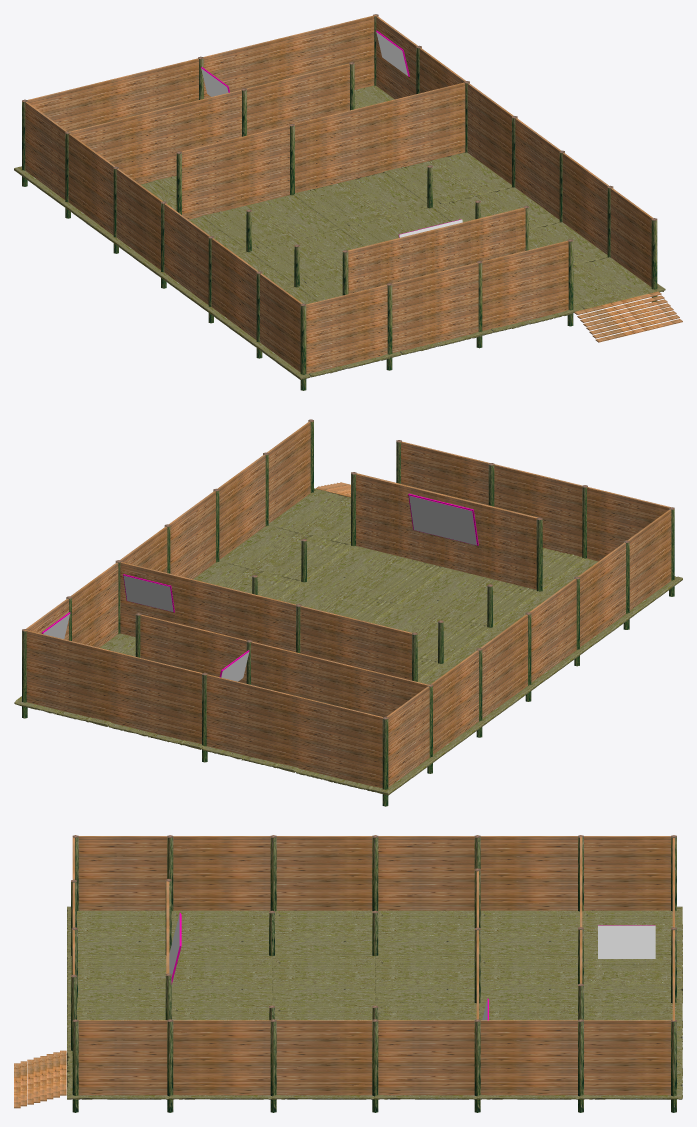
Rendered from Sala_Bienvenida.glb.
3 renders of one model, top to bottom at view 1: azimuth 30°, elevation 25°; view 2: azimuth 150°, elevation 25°; view 3: azimuth 270°, elevation 25°, orthographic. The views are drawn at different scales.
Parts seen in each view (by area): view 1: prim34, prim62, prim52, prim28, prim29, prim53, prim60, prim56, prim27, prim26, prim55, prim18 (+12 smaller); view 2: prim29, prim62, prim28, prim34, prim52, prim53, prim60, prim51, prim57, prim50, prim55, prim18 (+11 smaller); view 3: prim28, prim62, prim55, prim27, prim57, prim44, prim58, prim32, prim47, prim46, prim24, prim49 (+28 smaller).
Part boxes in pixels (bbox=[...]): prim34: bbox=[181, 82, 465, 219]; prim62: bbox=[25, 102, 302, 372]; prim52: bbox=[306, 241, 568, 373]; prim28: bbox=[376, 16, 653, 286]; prim29: bbox=[27, 15, 376, 131]; prim53: bbox=[68, 63, 349, 184]; prim60: bbox=[348, 207, 525, 293]; prim56: bbox=[294, 172, 427, 228]; prim27: bbox=[201, 195, 339, 249]; prim26: bbox=[383, 152, 512, 205]; prim55: bbox=[250, 229, 363, 284]; prim18: bbox=[573, 257, 665, 312]; prim29: bbox=[24, 629, 382, 788]; prim62: bbox=[386, 509, 671, 787]; prim28: bbox=[26, 421, 310, 647]; prim34: bbox=[120, 562, 411, 680]; prim52: bbox=[401, 441, 670, 561]; prim53: bbox=[140, 615, 429, 717]; prim60: bbox=[356, 473, 538, 589]; prim51: bbox=[307, 546, 445, 603]; prim57: bbox=[398, 568, 538, 625]; prim50: bbox=[219, 525, 351, 580]; prim55: bbox=[372, 604, 488, 661]; prim18: bbox=[268, 488, 350, 544]; prim28: bbox=[78, 1020, 670, 1095]; prim62: bbox=[78, 836, 670, 910]; prim55: bbox=[272, 954, 375, 1002]; prim27: bbox=[375, 954, 474, 1002]; prim57: bbox=[171, 954, 272, 1002]; prim44: bbox=[480, 954, 577, 1002]; prim58: bbox=[67, 954, 166, 1002]; prim32: bbox=[480, 910, 579, 954]; prim47: bbox=[275, 910, 372, 954]; prim46: bbox=[377, 910, 474, 954]; prim24: bbox=[584, 954, 682, 1002]; prim49: bbox=[67, 906, 165, 954].
Size of the model in its own units: 34.24 by 7.69 by 50.58.
Materials: 14 (6 with a texture image).
